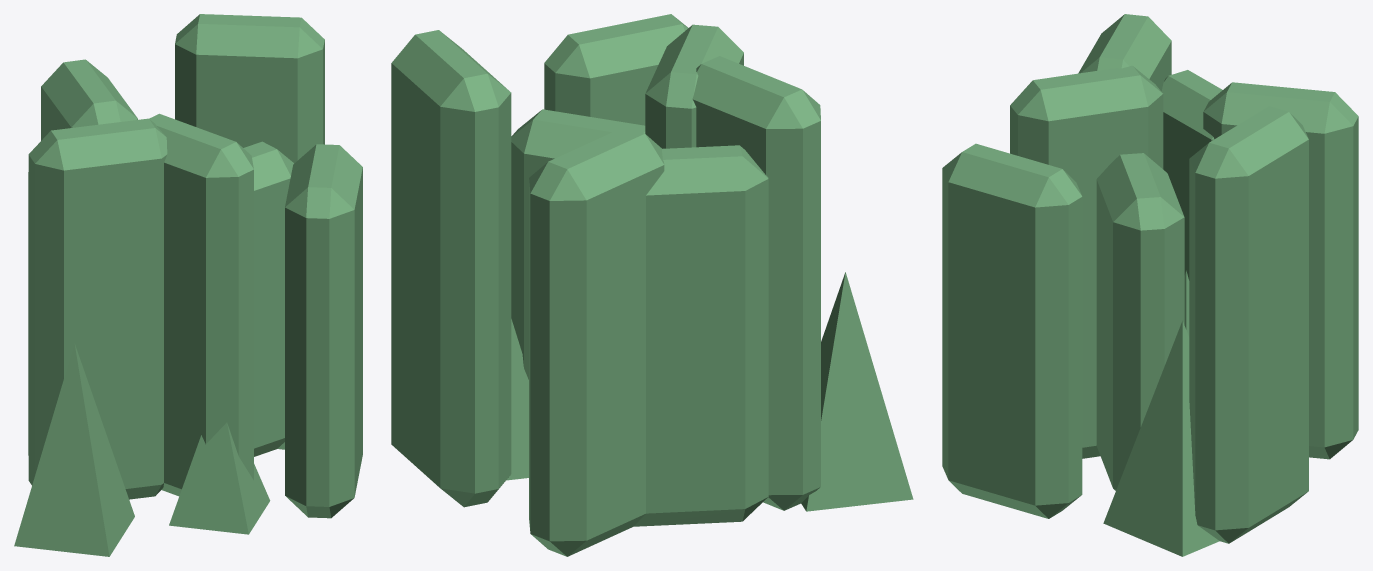
File: town_fern_clump.glb
3 renders of one model, left to right at view 1: azimuth 30°, elevation 25°; view 2: azimuth 150°, elevation 25°; view 3: azimuth 270°, elevation 25°, orthographic. The views are drawn at different scales.
Visible parts, largest first — view 1: world; view 2: world; view 3: world.
Part boxes in pixels (box(x1,y1,x2,y2)): world: box(14, 14, 362, 556); world: box(391, 14, 913, 556); world: box(942, 14, 1358, 556).
Size of the model in its own units: 2 by 1.86 by 1.78.
